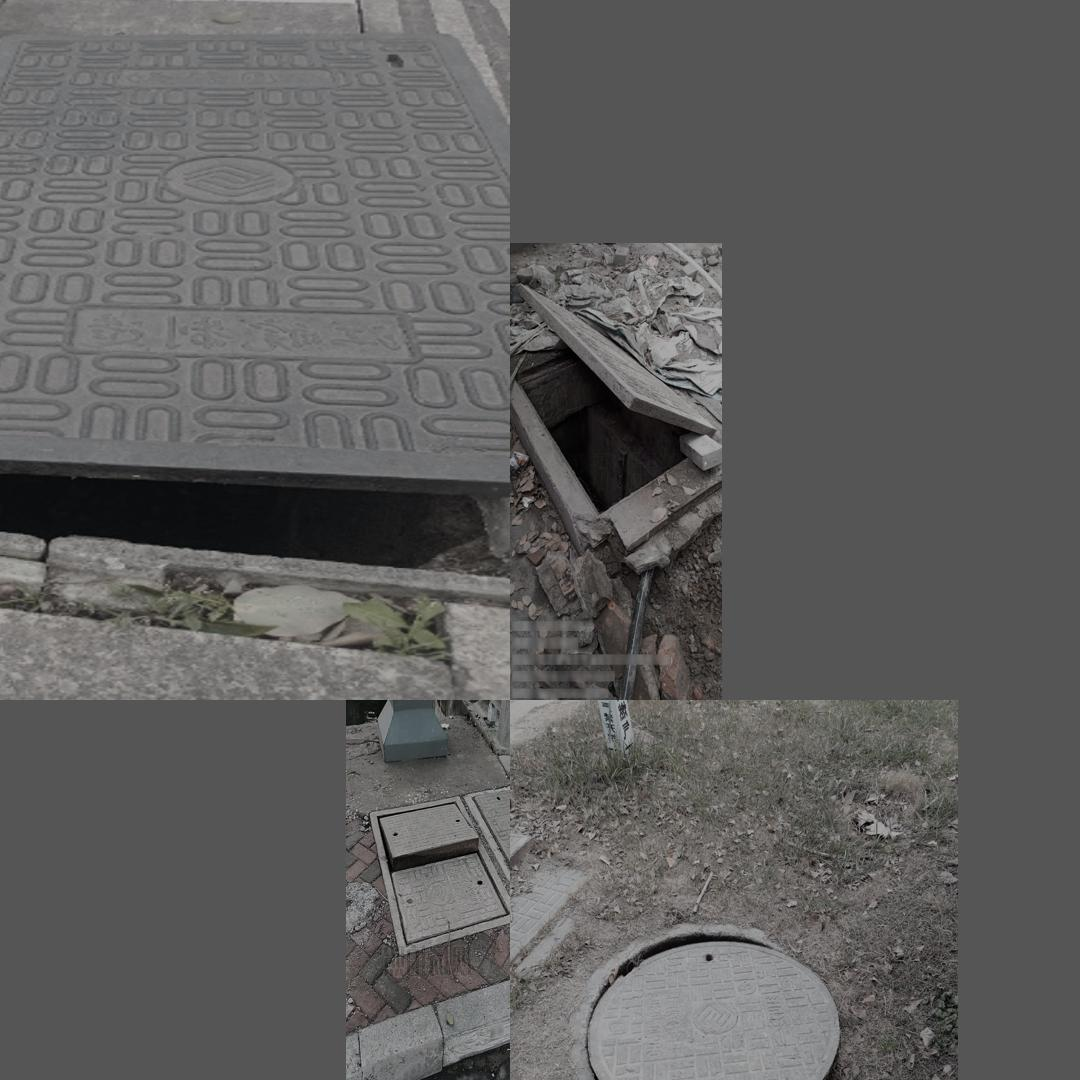uncovered: (0, 27, 507, 602), (510, 279, 722, 565), (569, 922, 839, 1080), (378, 790, 487, 949)
